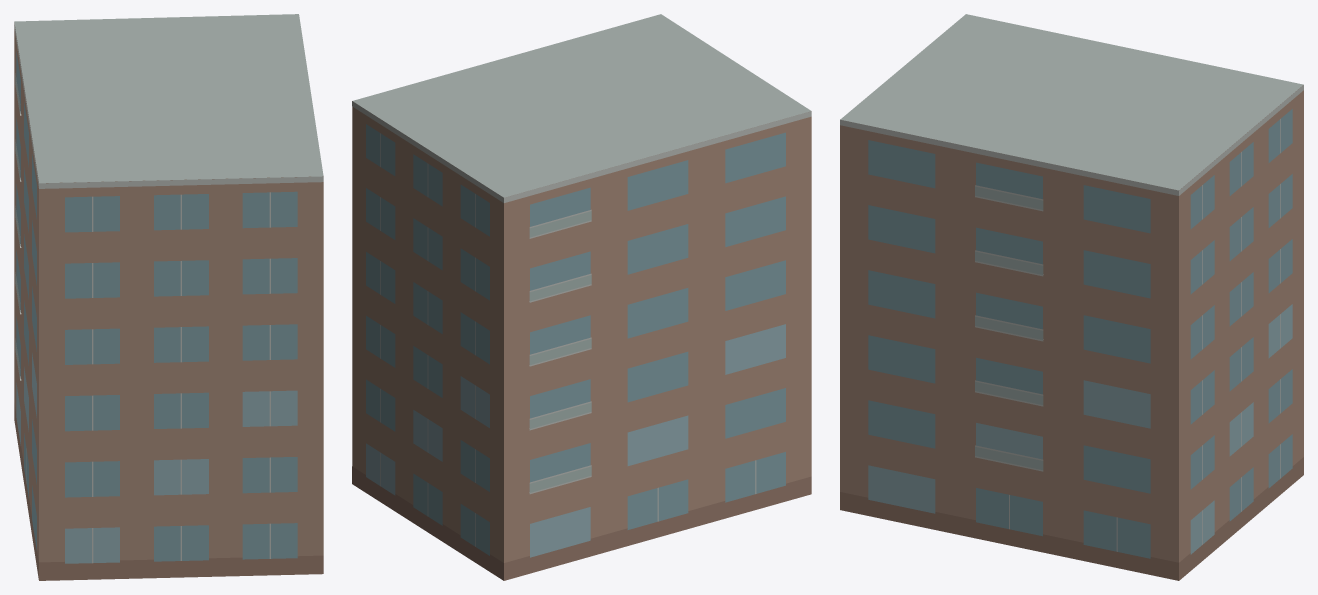
Rendered from survey-upis-32893920.glb.
3 views of the same model, side by side, from view 1: azimuth 30°, elevation 25°; view 2: azimuth 150°, elevation 25°; view 3: azimuth 270°, elevation 25° (orthographic). The views are drawn at different scales.
Visible parts, largest first — view 1: survey-upis-32893920.tmp; view 2: survey-upis-32893920.tmp; view 3: survey-upis-32893920.tmp.
Part boxes in pixels (x1,y1,x2,y2): survey-upis-32893920.tmp: (14,14,323,580); survey-upis-32893920.tmp: (352,14,811,580); survey-upis-32893920.tmp: (840,14,1303,580).
Size of the model in its own units: 16.59 by 17.1 by 18.42.
